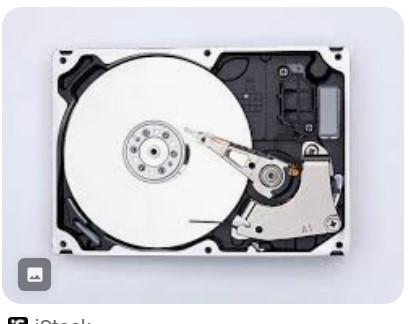internal HDD: (52, 46, 349, 262)
